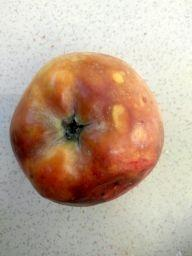Apple Semirotten: (10, 42, 169, 218)
